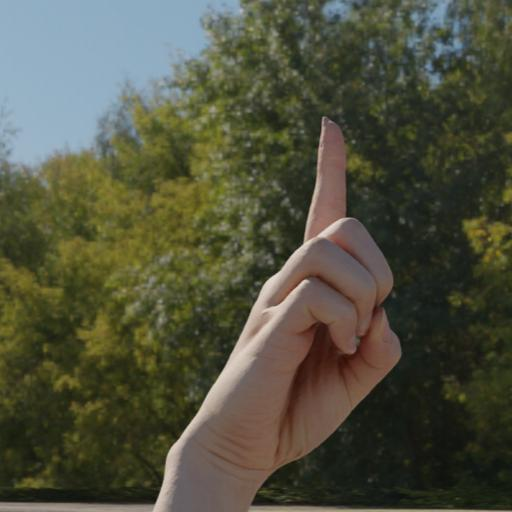D: (201, 115, 404, 453)
